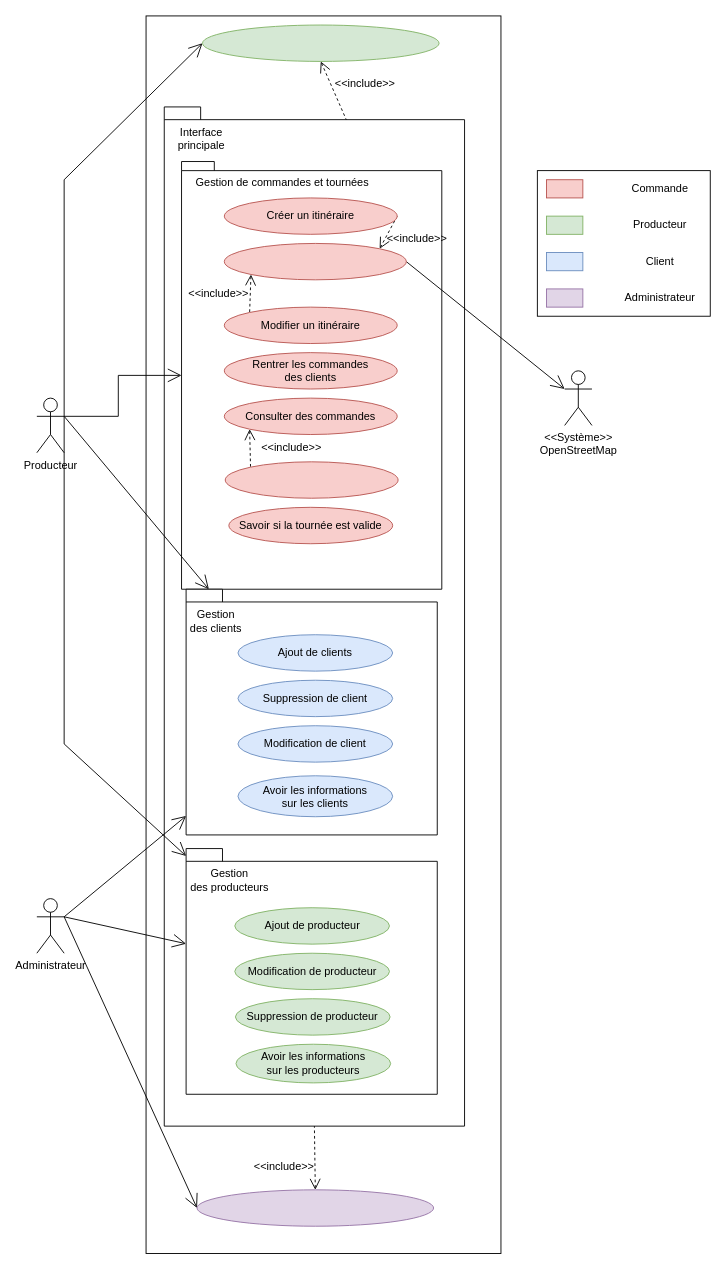
Some shapes in this 726 by 1269 pixel diagram are drawn without their labels. The shapes that lost their labels are listed below. From the top down, each one's centre as x and y in pixels, then its label:
At point (320, 42): "S'authentifier en tant que producteur".
At point (314, 261): "Visualiser un itinéraire".
At point (311, 479): "Modifier une commande".
At point (315, 1207): "S'authentifier en tant qu'administrateur".
